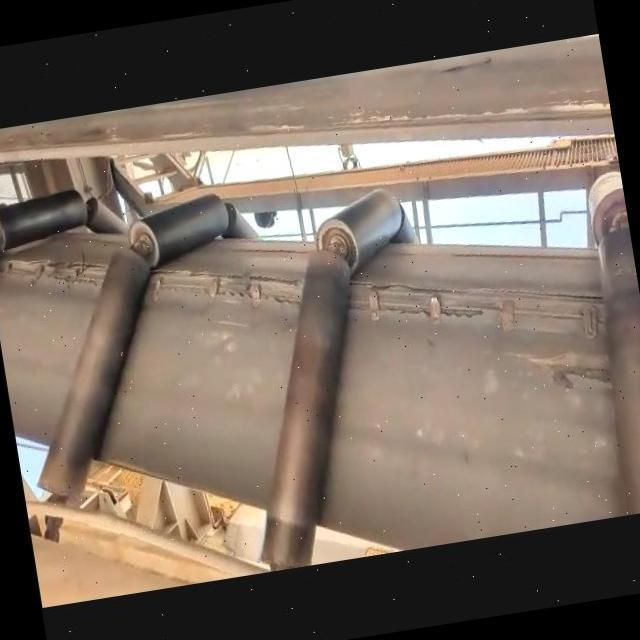Tear: (341, 272, 608, 333), (144, 263, 308, 309), (0, 248, 110, 296)
Wear: (498, 337, 620, 392)
